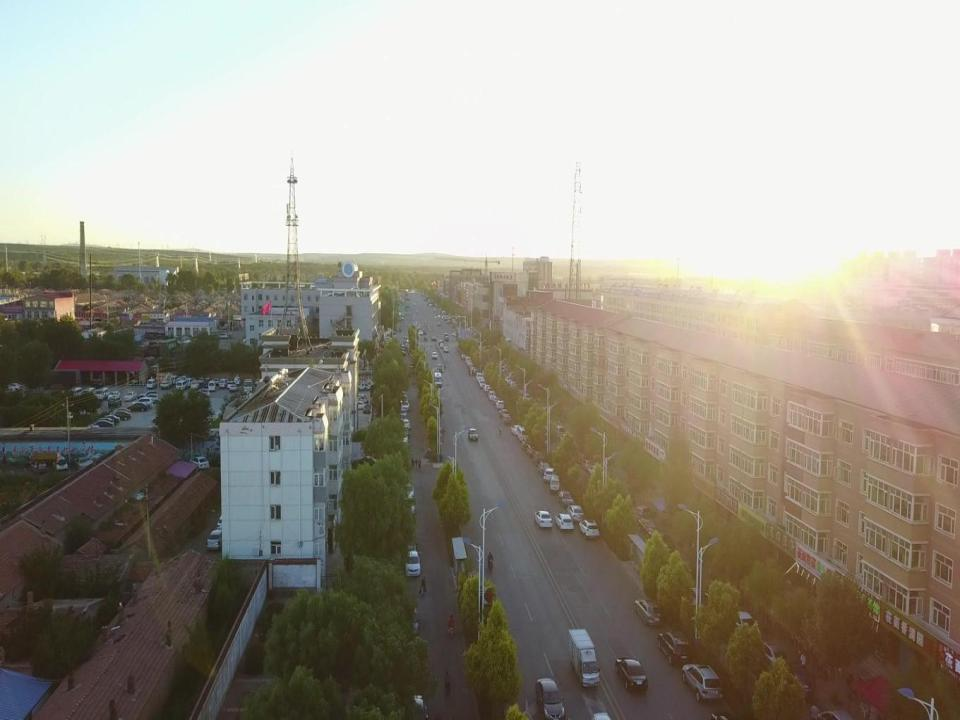bus: (95, 387, 109, 400), (68, 387, 82, 400), (81, 387, 95, 398)
car: (681, 664, 724, 703), (658, 630, 692, 666), (534, 677, 562, 720), (615, 657, 648, 691), (758, 640, 792, 673), (634, 598, 666, 626), (733, 610, 761, 641), (405, 694, 428, 720), (402, 604, 420, 636), (404, 550, 422, 577), (579, 519, 599, 539), (400, 494, 416, 517), (639, 516, 658, 535), (533, 510, 553, 528), (632, 504, 652, 520), (207, 529, 222, 550), (556, 513, 573, 531), (559, 488, 574, 508), (568, 505, 585, 522), (107, 410, 131, 421), (190, 455, 209, 468), (404, 532, 416, 552), (133, 397, 153, 409), (401, 482, 414, 500), (30, 460, 46, 474), (142, 393, 162, 404), (581, 458, 596, 472), (532, 450, 545, 466), (521, 437, 533, 452), (53, 458, 68, 470), (126, 403, 148, 411), (89, 420, 114, 427), (537, 462, 551, 474), (100, 415, 120, 423), (138, 391, 158, 399), (544, 468, 556, 481), (89, 377, 102, 389), (510, 425, 523, 436), (468, 428, 479, 440), (517, 428, 528, 440), (526, 446, 536, 458), (358, 381, 370, 391), (109, 408, 133, 413), (123, 392, 137, 400), (107, 391, 120, 399), (94, 418, 114, 423), (356, 401, 367, 409), (491, 397, 500, 406), (496, 399, 504, 409), (488, 391, 496, 400), (486, 387, 494, 395), (484, 384, 491, 392), (480, 380, 486, 389), (437, 363, 443, 372), (438, 340, 444, 347), (432, 352, 437, 360), (431, 336, 437, 341), (444, 346, 449, 352), (444, 336, 448, 341), (462, 354, 466, 359)
truck: (568, 628, 600, 688)
van: (550, 474, 560, 491), (433, 372, 442, 387), (354, 394, 368, 403), (146, 378, 157, 389), (176, 380, 188, 389), (208, 380, 216, 392), (244, 380, 252, 391)
